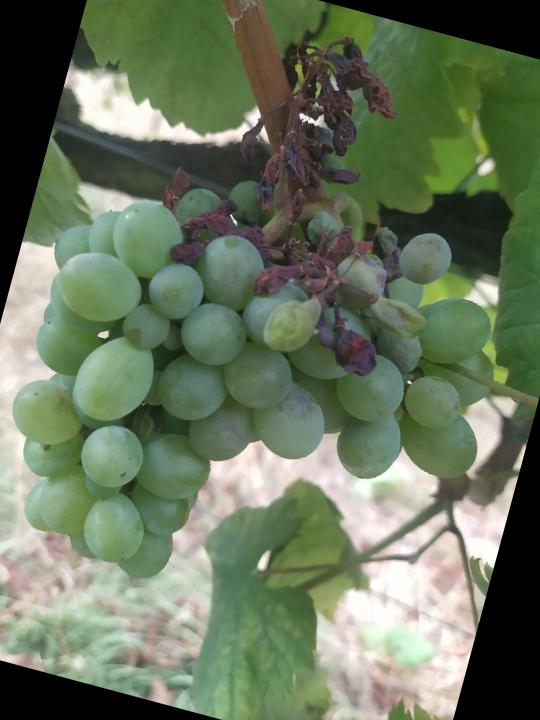grape: (0, 0, 540, 659)
